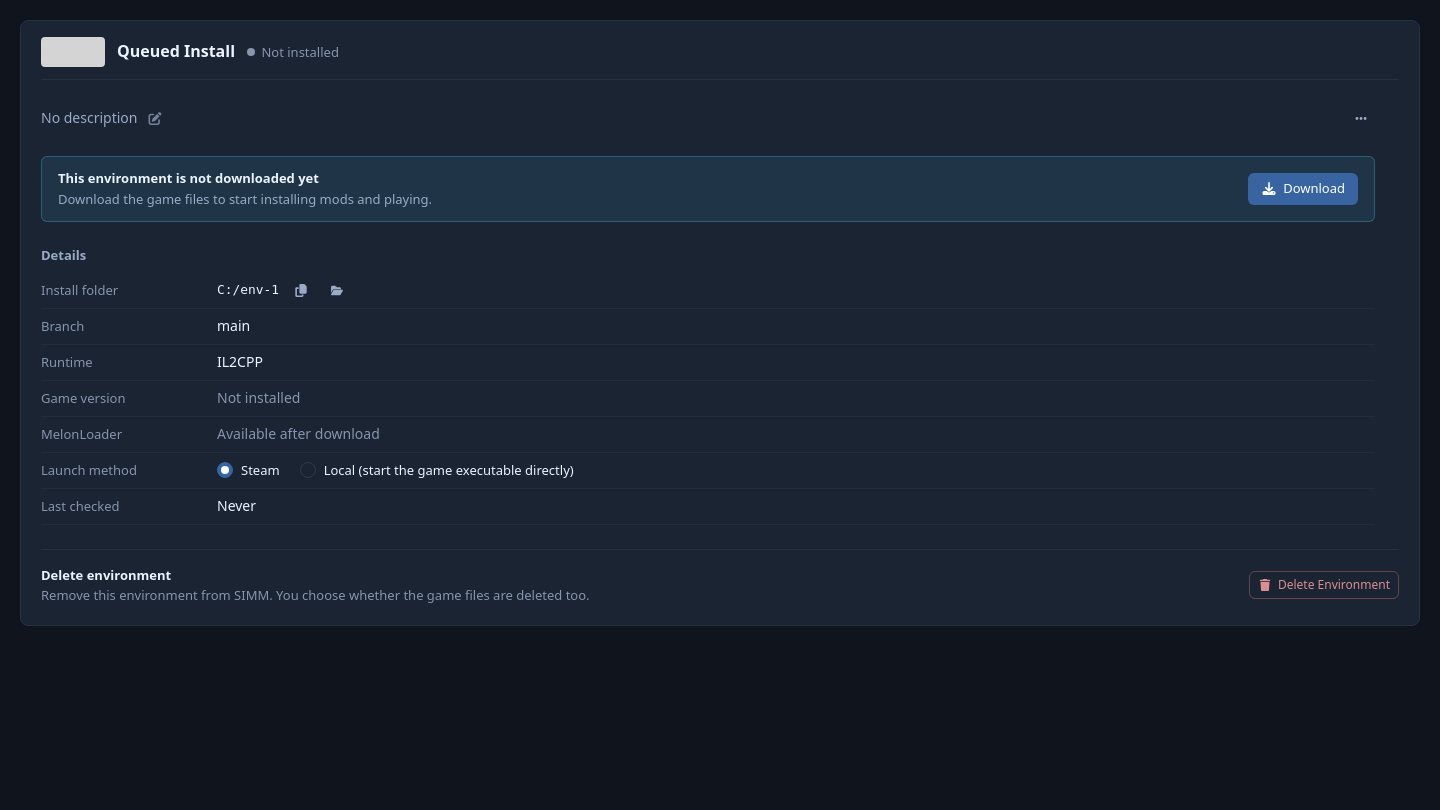
EnvironmentList › routes start download failures through the shared message dialog
Click the button "Download". click: (1303, 189)
box: [1248,173,1358,205]
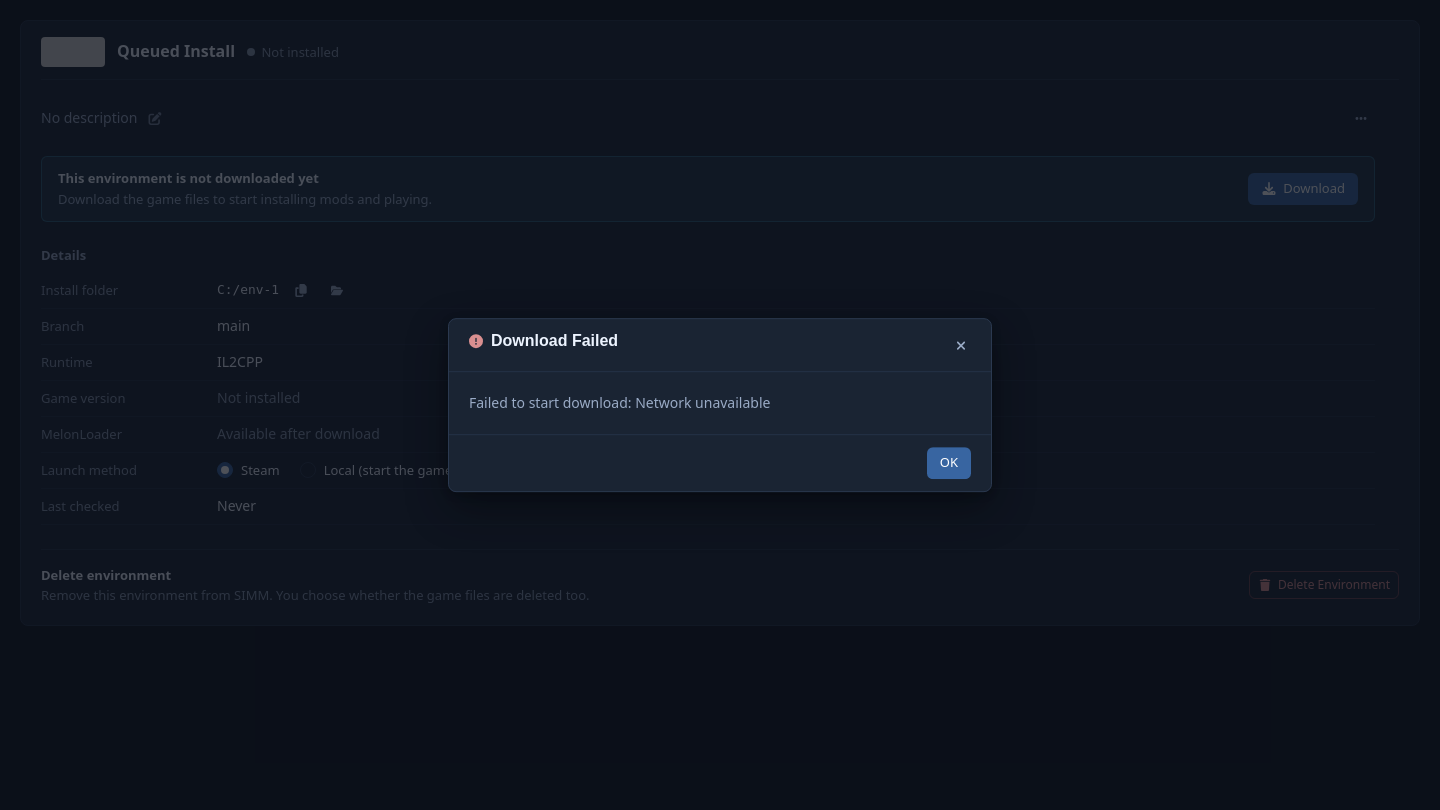
expect the heading "Download Failed" is shown: met, box [491,331,618,352]
expect the text "Failed to start download: Network unavailable" is shown: met, box [469,393,770,412]
